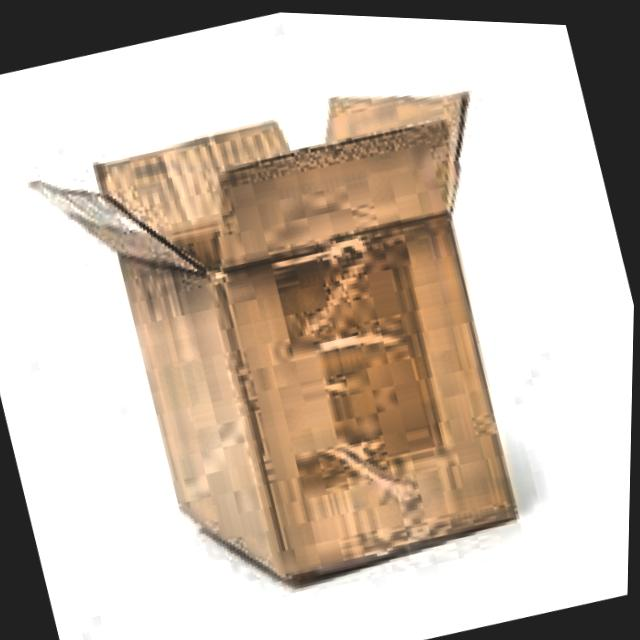Cardbox: (6, 27, 585, 634)
